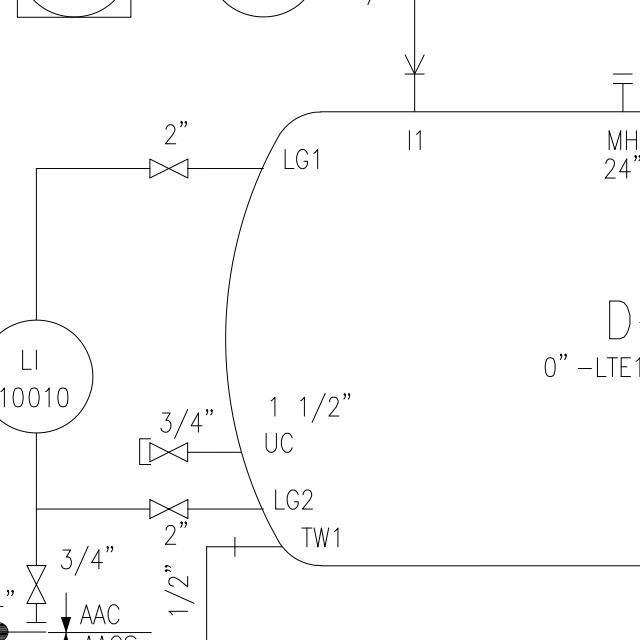EC: (136, 432, 224, 468)
GV: (23, 559, 50, 612), (145, 438, 191, 467), (145, 498, 192, 522), (146, 158, 192, 180)
